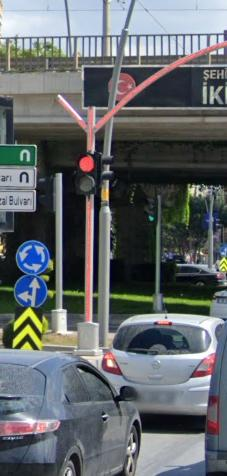crossroads: (17, 239, 48, 277)
redlight: (73, 151, 101, 195)
